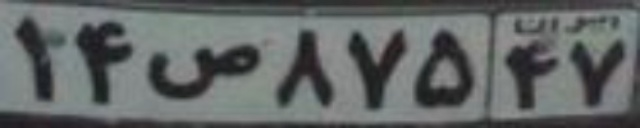1: (17, 15, 55, 101)
4: (73, 19, 133, 103), (503, 40, 558, 109)
5: (414, 28, 479, 107)
7: (347, 27, 403, 109), (566, 36, 626, 106)
8: (274, 29, 334, 108)
saat: (143, 43, 260, 99)
